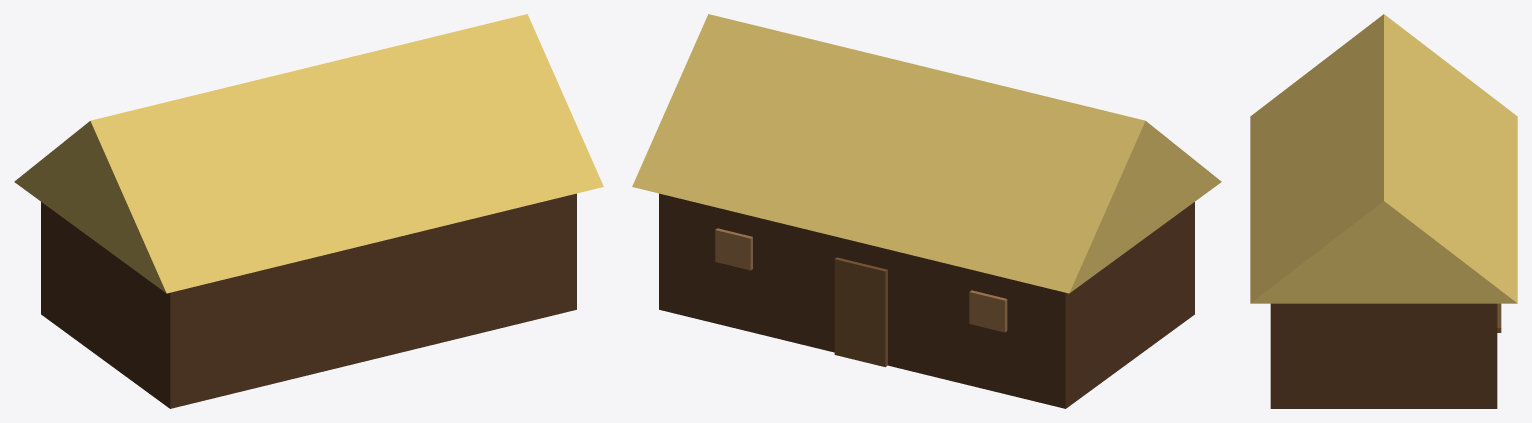
The model's file is SM_Longhouse.fbx.
3 views of the same model, side by side, from view 1: azimuth 30°, elevation 25°; view 2: azimuth 150°, elevation 25°; view 3: azimuth 270°, elevation 25° (orthographic). The views are drawn at different scales.
Parts seen in each view (by area): view 1: SM_Longhouse; view 2: SM_Longhouse; view 3: SM_Longhouse.
Part boxes in pixels (x1=…): SM_Longhouse: x1=14, y1=14, x2=603, y2=408; SM_Longhouse: x1=632, y1=14, x2=1221, y2=408; SM_Longhouse: x1=1250, y1=14, x2=1517, y2=408.
Bounding box in the file's own units: 8.6 × 5.2 × 4.6.
